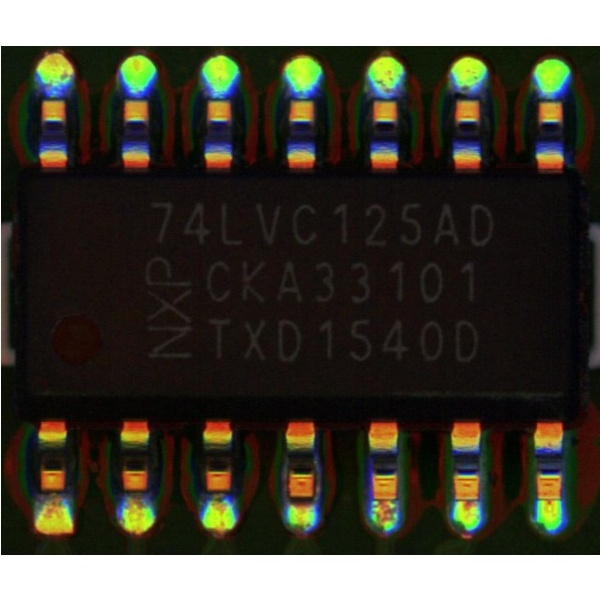Bad_podu: (540, 488, 559, 512), (373, 491, 395, 509), (457, 493, 475, 514)
